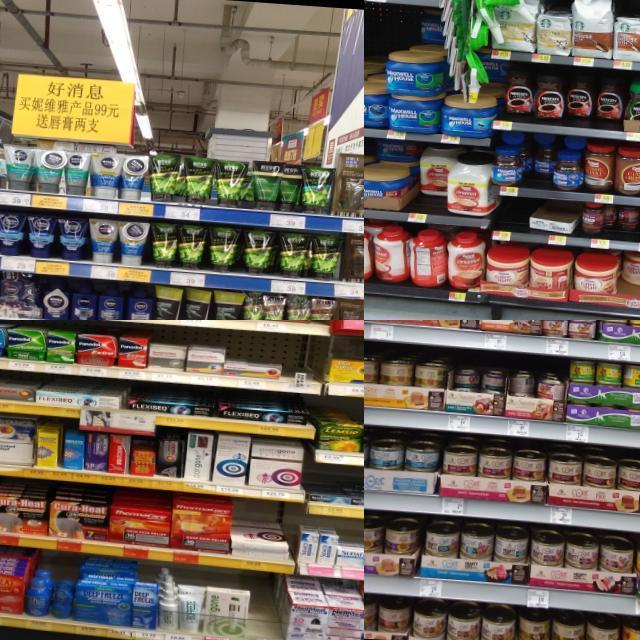empty: (282, 336, 318, 394), (247, 579, 278, 640), (498, 196, 530, 242)
